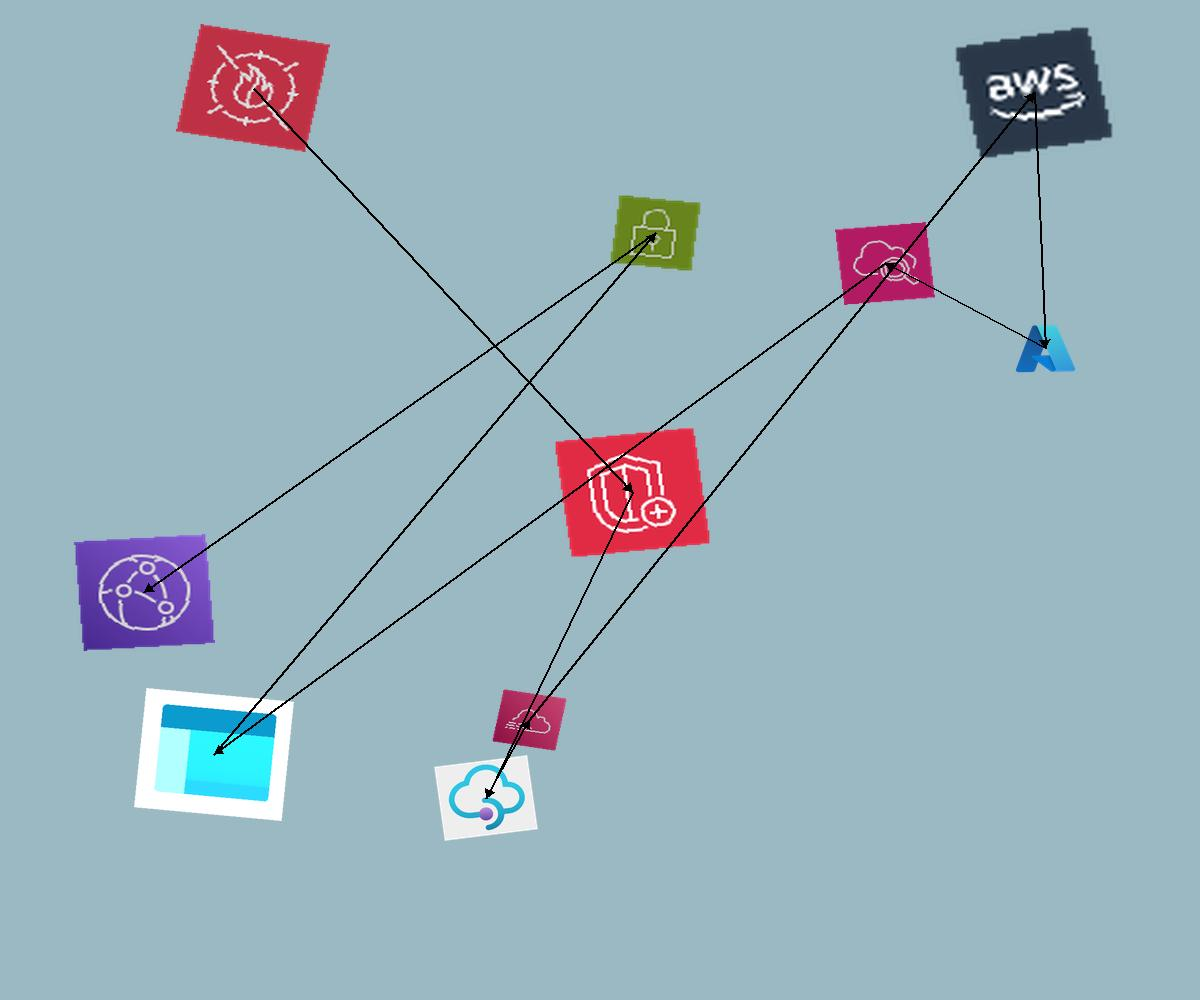AWS-Cloud-logo: (953, 25, 1115, 160)
AWS-CloudFront: (74, 534, 215, 651)
AWS-CloudTrail: (492, 689, 567, 751)
AWS-CloudWatch: (835, 222, 935, 305)
AWS-Public-subnet: (609, 194, 702, 272)
AWS-Shield: (554, 427, 711, 558)
AWS-WAF: (176, 24, 330, 152)
Azure_api_gateway: (434, 755, 538, 841)
Azure_management-portal: (134, 688, 294, 821)
Azure_services: (1012, 321, 1078, 376)
